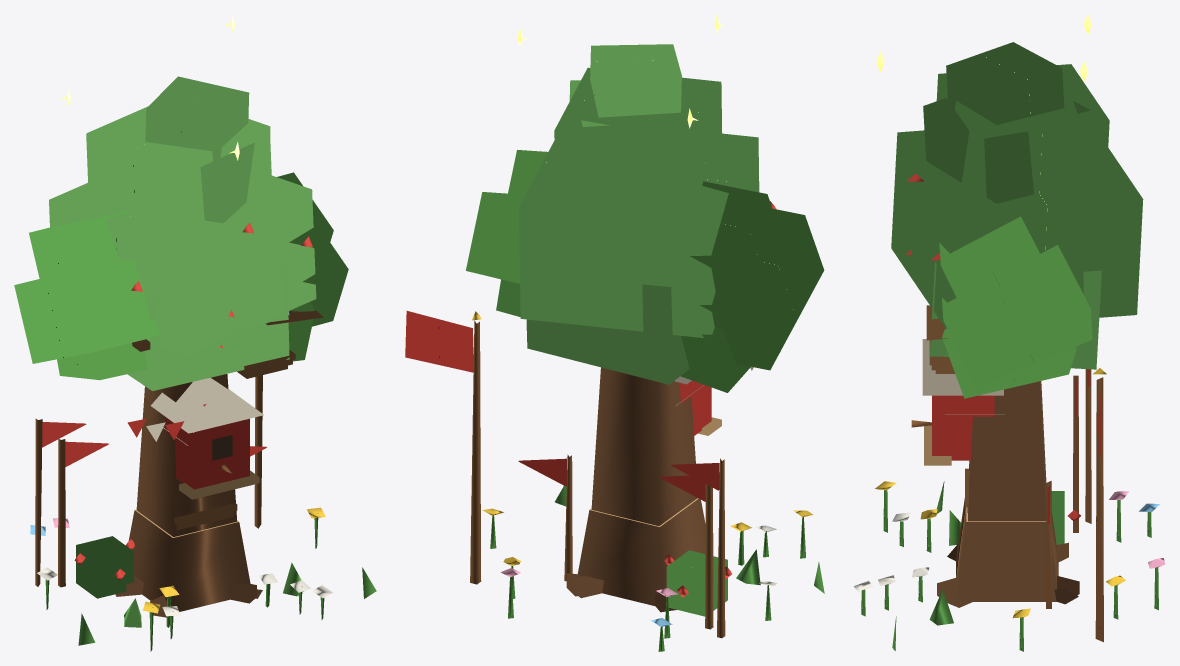
The model's file is robin-nest-grove-blocky_lod1.glb.
The picture shows the model from 3 angles, left to right: view 1: azimuth 30°, elevation 25°; view 2: azimuth 150°, elevation 25°; view 3: azimuth 270°, elevation 25°; orthographic projection. The views are drawn at different scales.
Visible parts, largest first — view 1: lv3, lv1, lv2; view 2: lv3, lv2, lv1; view 3: lv3, lv1, lv2.
Boxes of the visible parts, x1=… form: lv3: x1=14, y1=14, x2=376, y2=651; lv1: x1=74, y1=446, x2=303, y2=627; lv2: x1=53, y1=266, x2=315, y2=638; lv3: x1=405, y1=14, x2=824, y2=651; lv2: x1=496, y1=279, x2=776, y2=638; lv1: x1=518, y1=454, x2=760, y2=616; lv3: x1=854, y1=14, x2=1165, y2=651; lv1: x1=912, y1=468, x2=1080, y2=625; lv2: x1=878, y1=262, x2=1128, y2=619.
Size of the model in its own units: 1.71 by 2.7 by 1.35.
